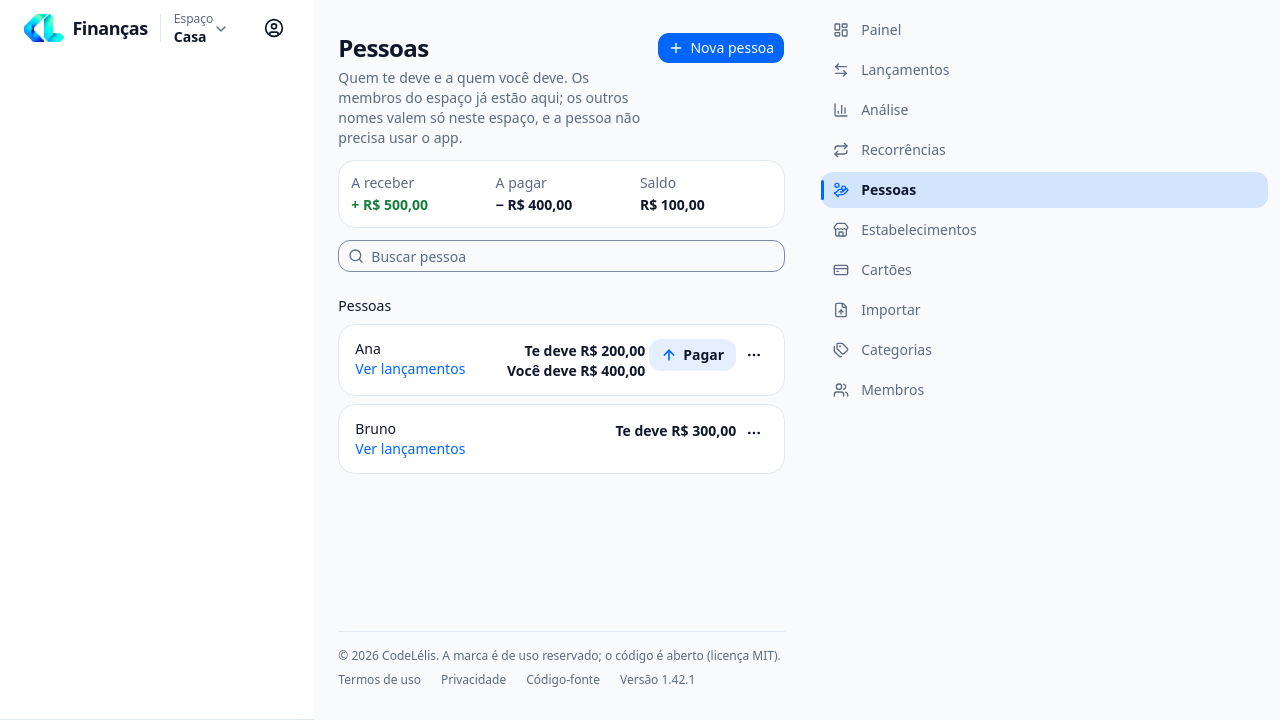
it: Pagar a Ana › pays the purchases at once, less the reward in percent
Click the button with aria-label "Pagar: Ana".
click(693, 355)  # box [649,339,736,371]
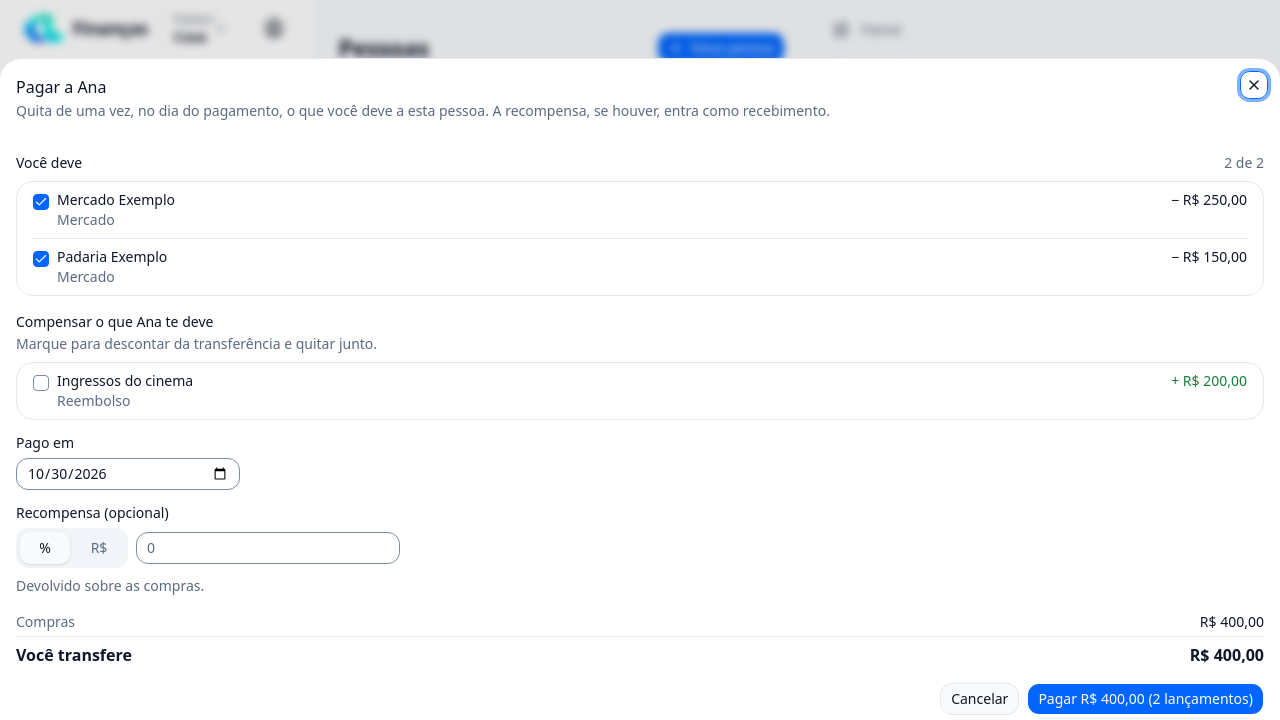
Expected: the checkbox named "Mercado Exemplo" next to "Mercado Exemplo" is checked, [33,194,49,210]
Expected: the checkbox named "Ingressos do cinema" next to "Ingressos do cinema" is not checked, [33,375,49,391]
Type "10" into the field labelled "Recompensa (opcional)".
click(268, 548); type("10")  # box [136,532,400,564]
(page scrolled)
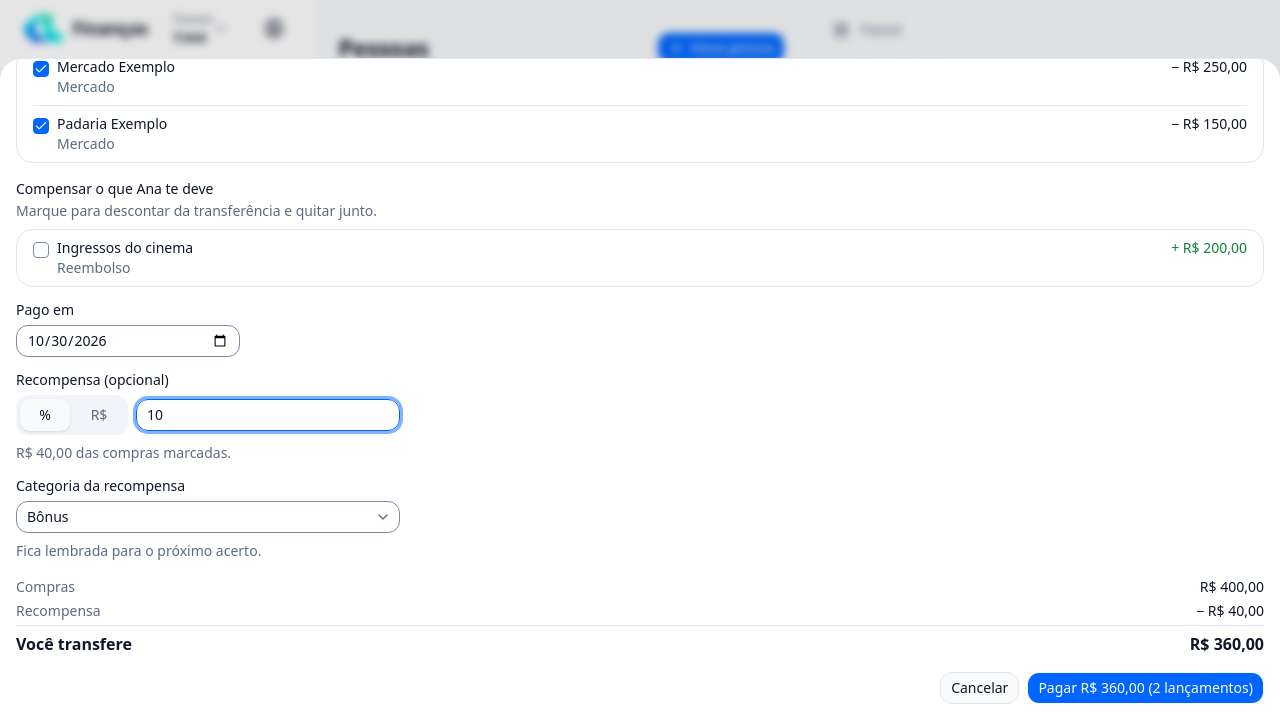
Expected: the dialog "Pagar a Ana" shows "R$ 40,00 das compras marcadas.", [16,443,231,462]
Expected: the dropdown named "Categoria da recompensa" reads "Bônus", [16,501,400,533]
Click the button "Pagar R$ 360,00 (2 lançamentos)".
click(1146, 688)  # box [1027,672,1264,704]
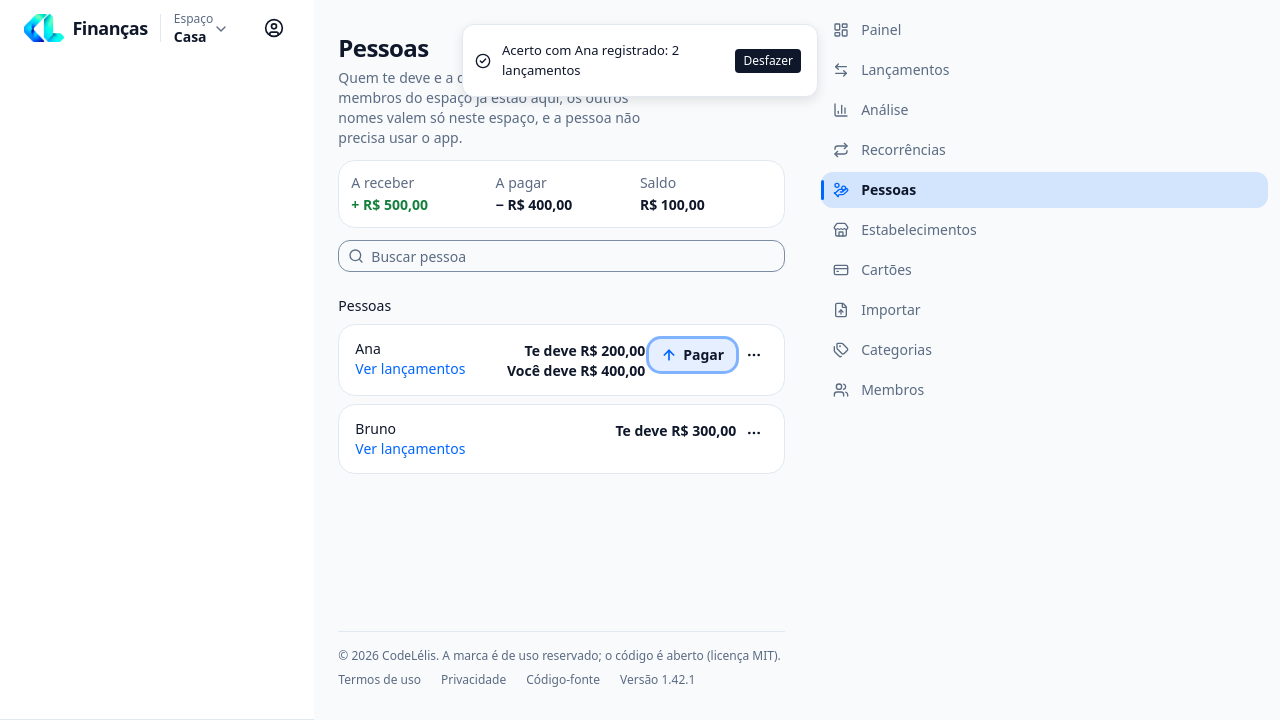
Expected: the text "Acerto com Ana registrado: 2 lançamentos" is shown, [502,41,679,78]
